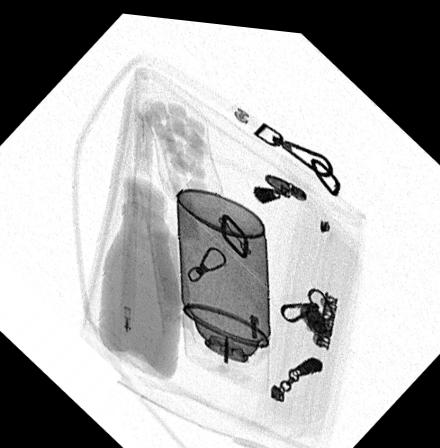Sprayer: (176, 185, 269, 386)
